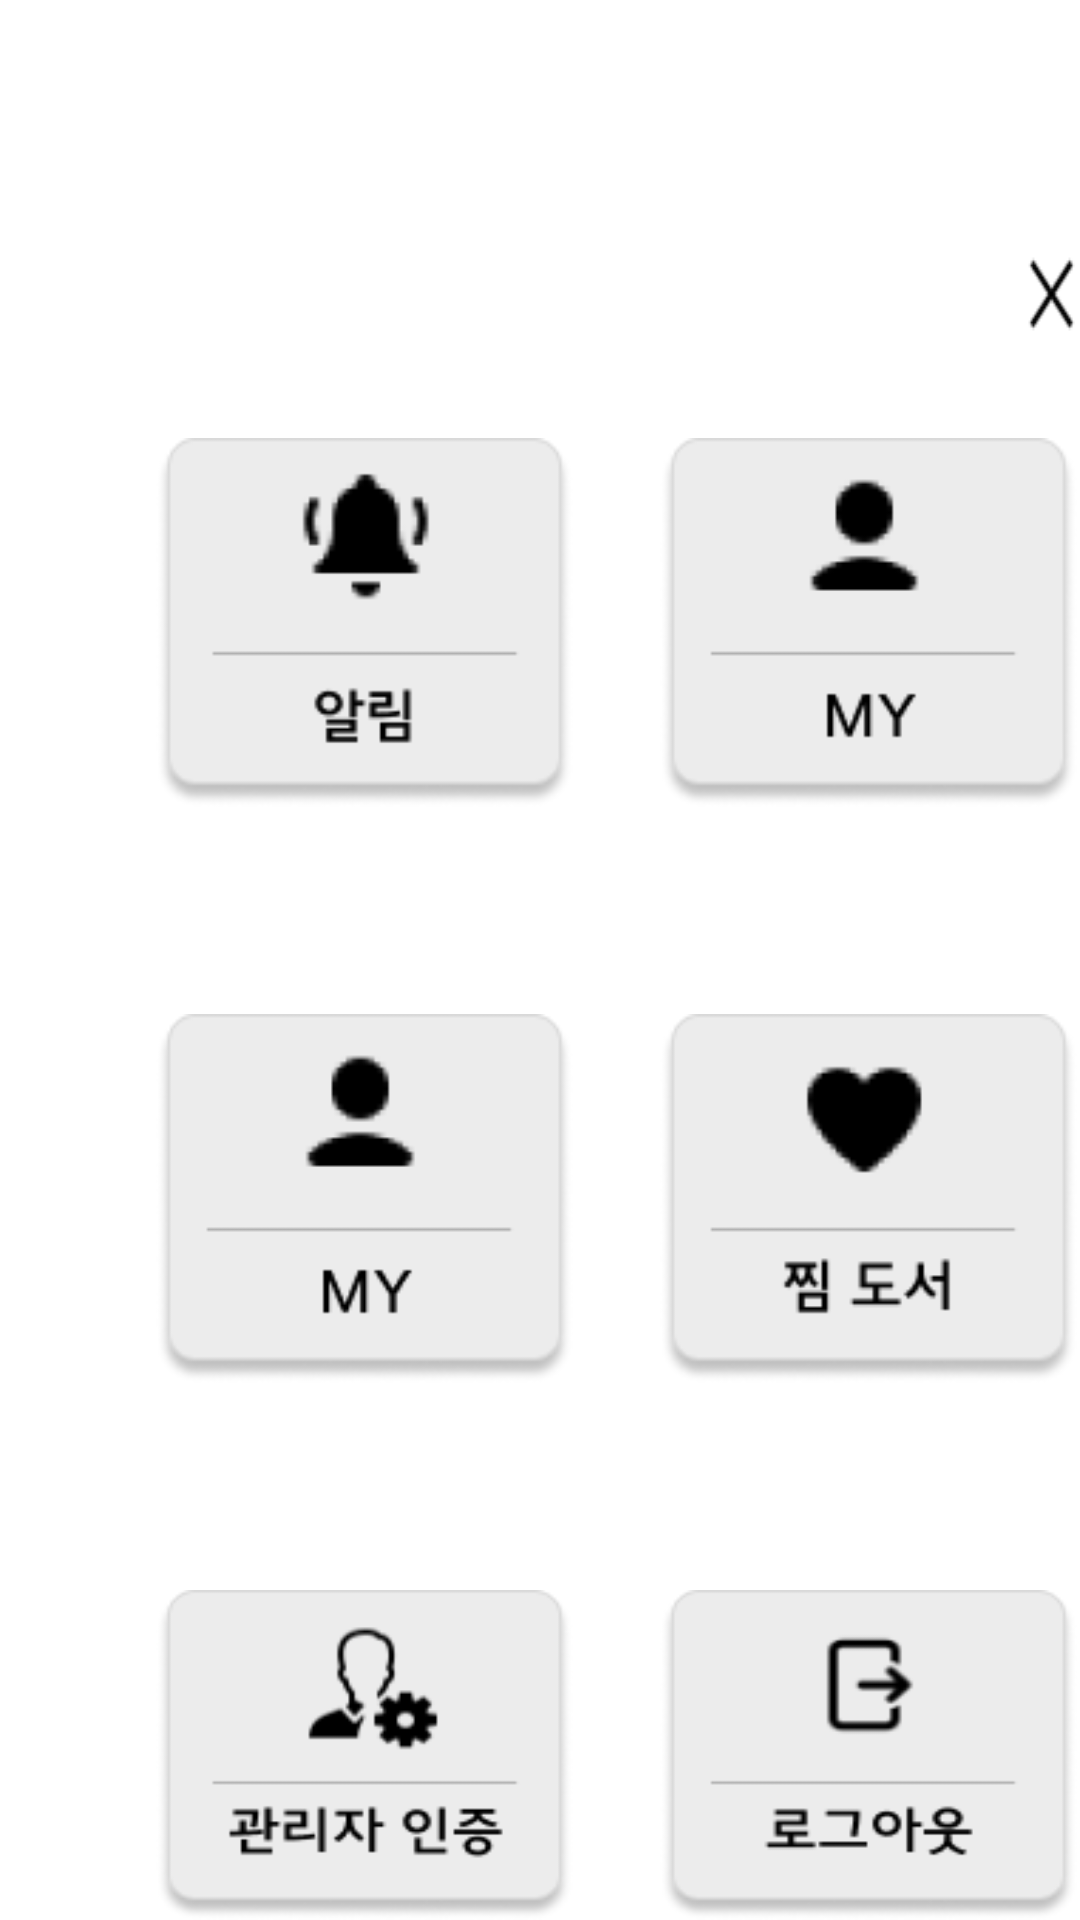

Screen size 1080×1920. Icon name, then its center in pixels as (x=x, y=y):
close: (x=1051, y=294)
